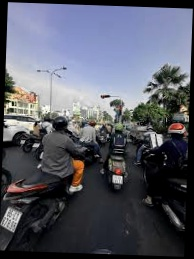Bien-so: (0, 207, 22, 234), (112, 175, 124, 185)
